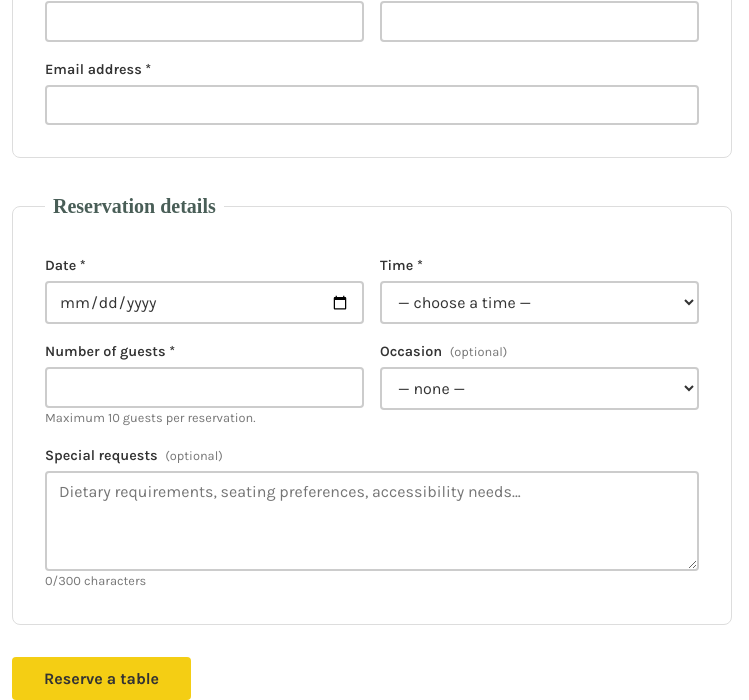
BookingForm validation › disables submit button after a failed submission attempt
The image size is (749, 700).
(page scrolled)
Step 1. Click the button "Reserve a table" → [102, 678], box x1=12 y1=656 x2=191 y2=699
(page scrolled)
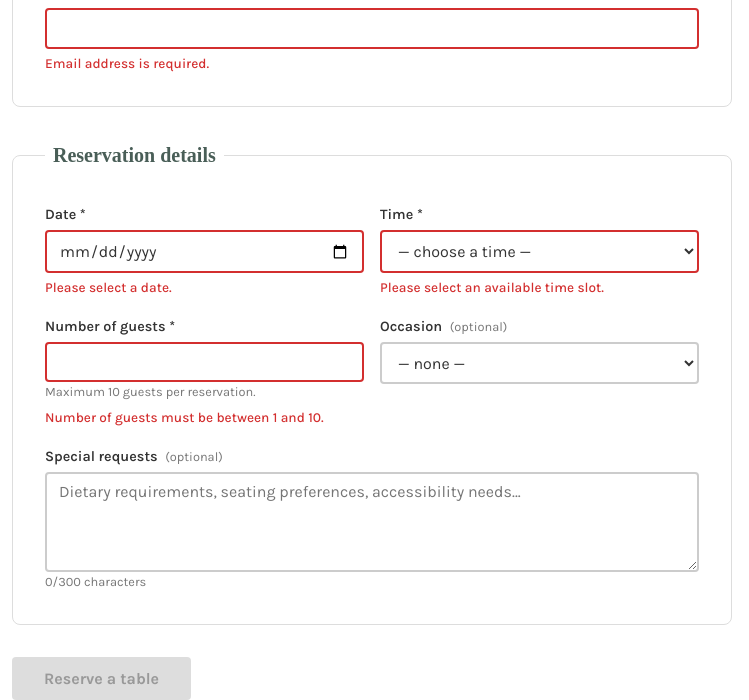
Now the button "Reserve a table" is disabled, box x1=12 y1=657 x2=191 y2=699
